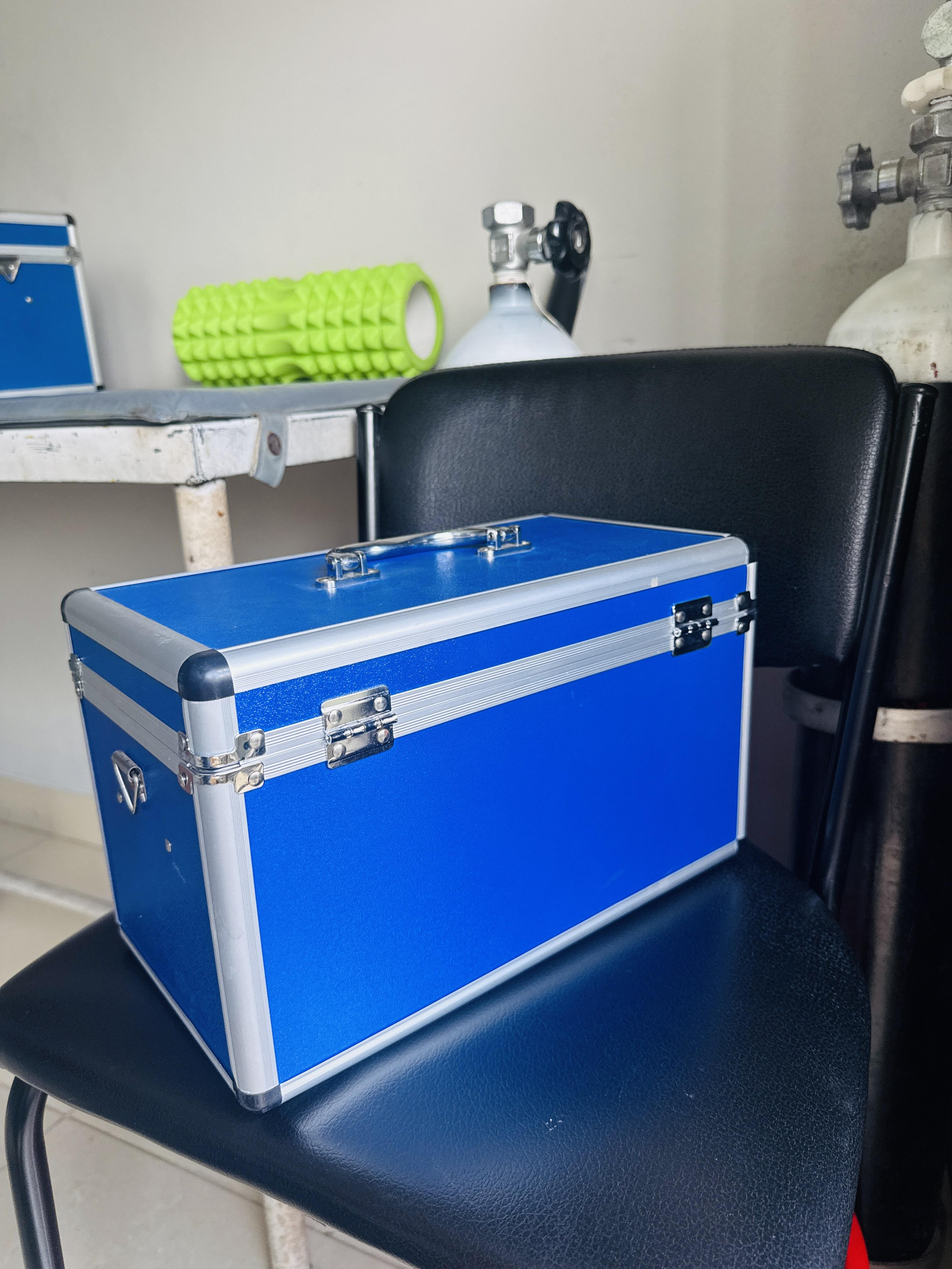FirstAidBox: (46, 497, 782, 1125)
